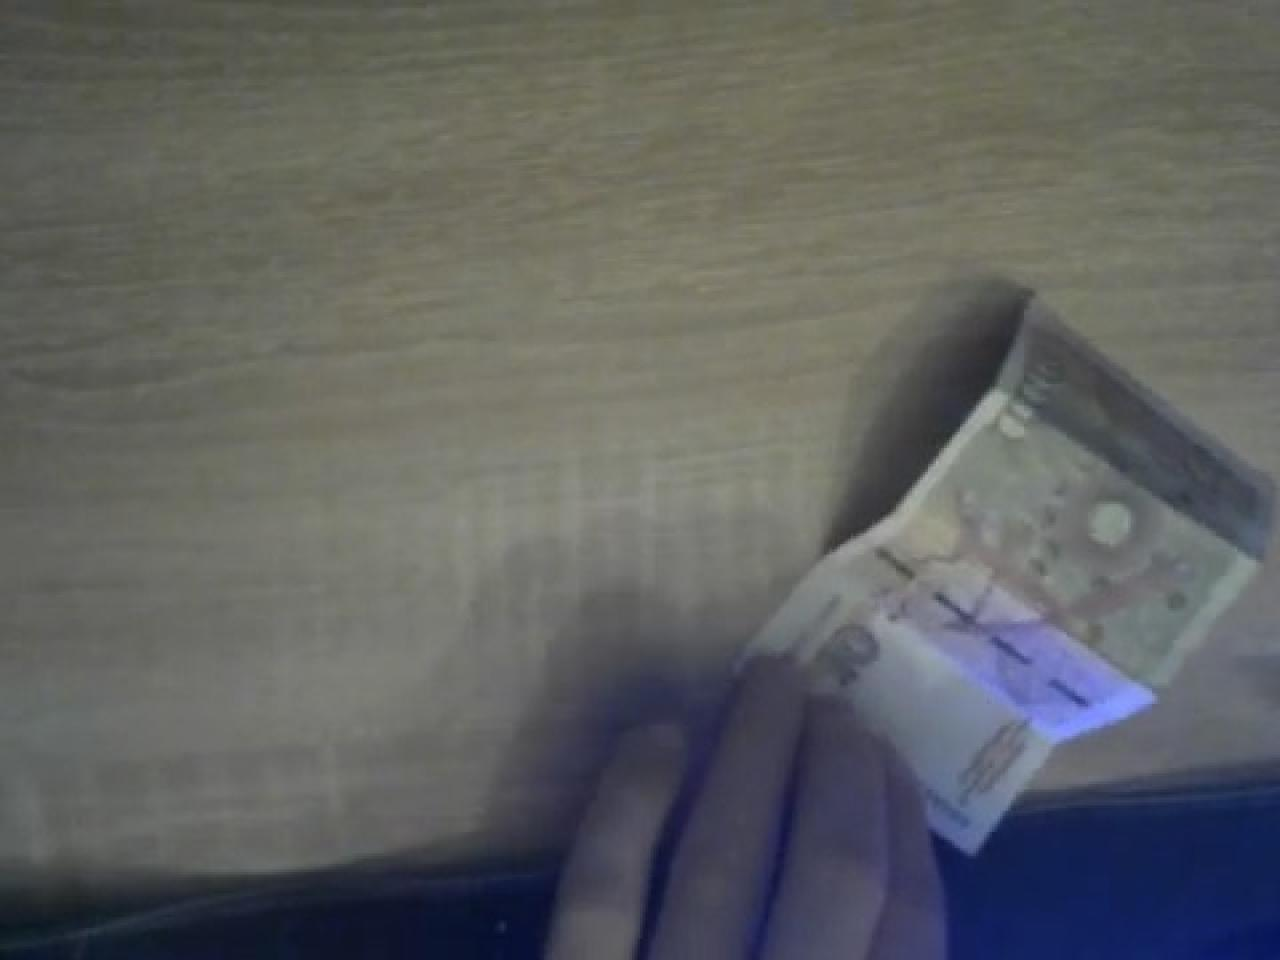10leva: (728, 283, 1277, 853)
